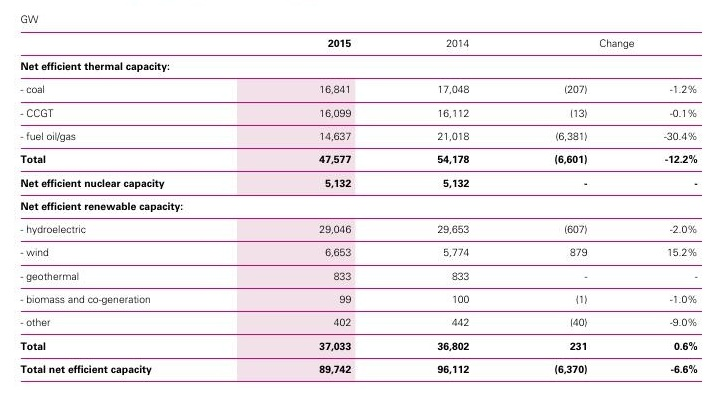table: (0, 0, 722, 396)
